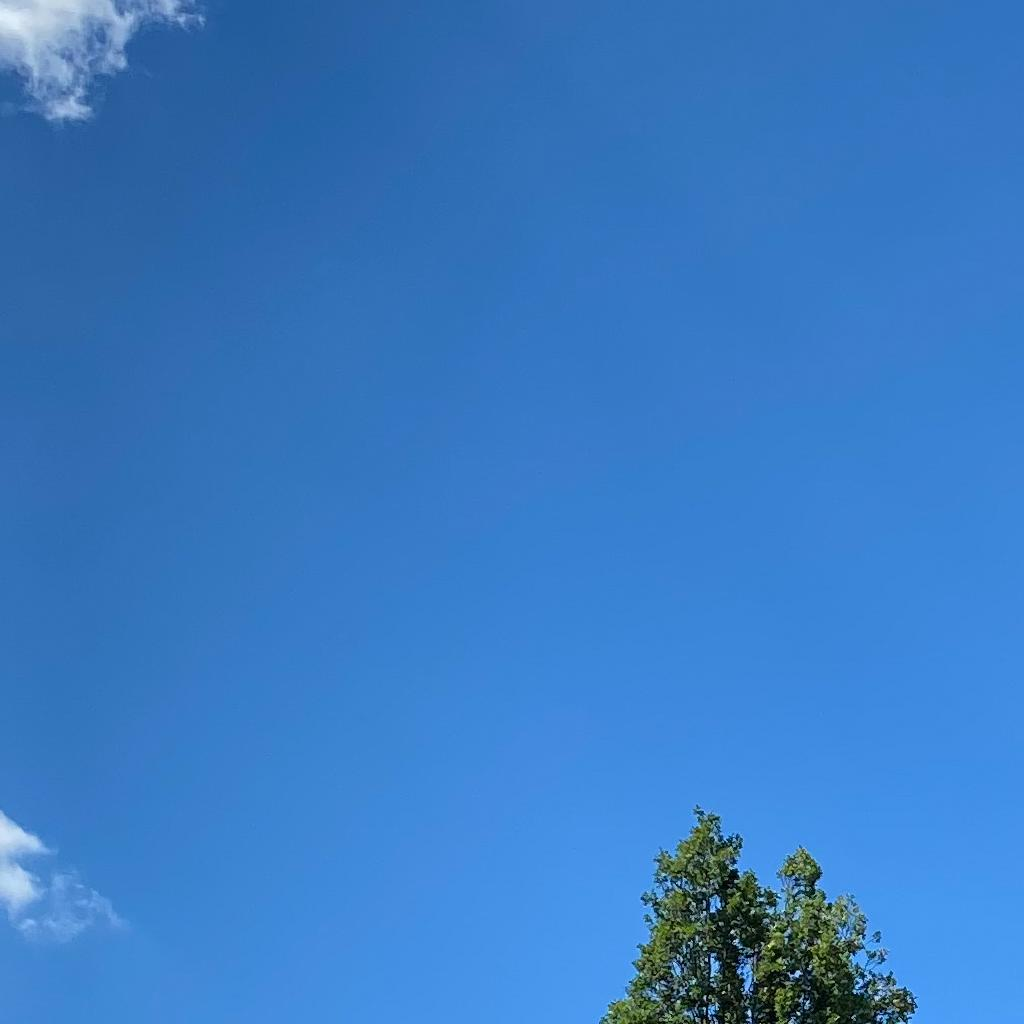tree: (594, 803, 919, 1024)
